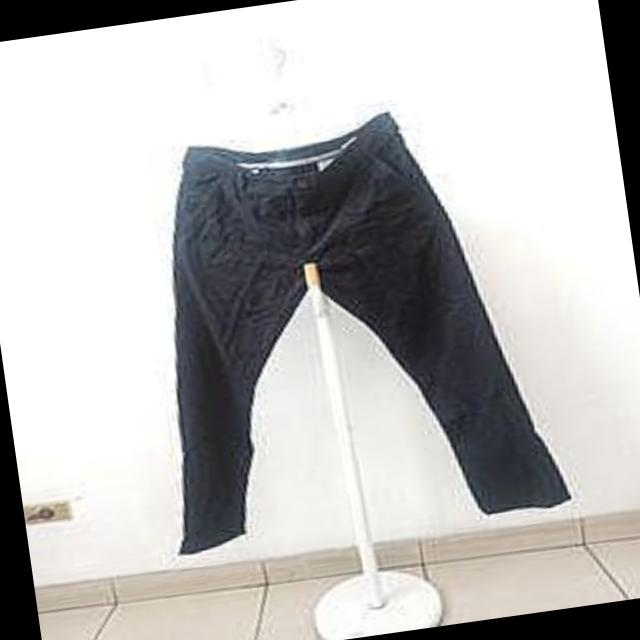TROUSER: (101, 78, 600, 568)
